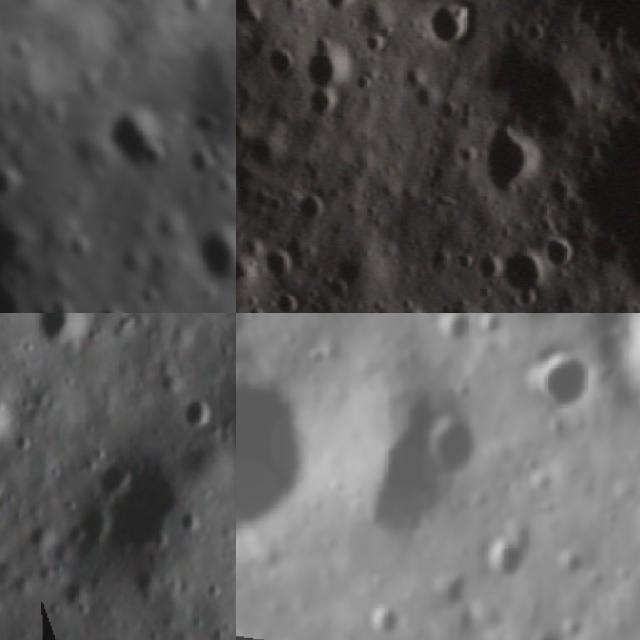crater: (555, 75, 640, 313), (236, 354, 322, 565), (357, 384, 449, 538), (470, 112, 559, 207), (92, 92, 181, 184), (522, 346, 594, 416), (180, 212, 236, 295), (489, 237, 555, 304), (422, 408, 486, 474), (419, 0, 481, 52), (247, 232, 307, 284), (486, 528, 537, 586), (239, 121, 291, 174), (31, 313, 95, 353), (535, 225, 583, 276), (176, 385, 230, 429), (304, 44, 353, 91), (258, 34, 306, 80), (291, 180, 335, 226), (181, 98, 226, 140), (429, 565, 467, 614), (302, 82, 342, 126), (0, 29, 41, 70), (420, 235, 458, 278), (363, 598, 401, 640), (358, 20, 398, 58), (571, 313, 636, 336), (316, 266, 353, 306), (266, 278, 308, 313), (0, 157, 29, 205), (430, 313, 478, 342), (549, 540, 583, 579), (450, 240, 480, 280), (430, 292, 487, 313), (175, 0, 218, 27), (236, 155, 253, 221), (201, 138, 232, 171), (317, 0, 363, 22), (473, 313, 505, 338), (212, 173, 236, 204), (302, 342, 331, 366), (89, 299, 134, 313), (519, 626, 563, 640), (493, 304, 540, 313), (236, 314, 246, 347)
